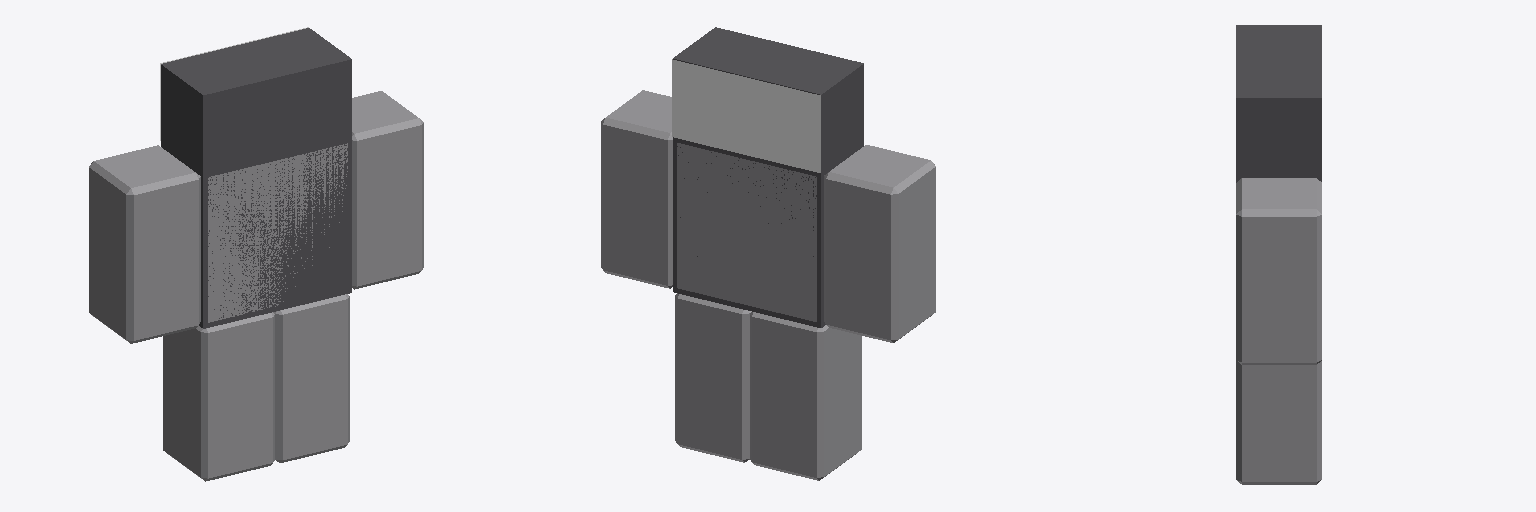
The picture shows the model from 3 angles: view 1: azimuth 30°, elevation 25°; view 2: azimuth 150°, elevation 25°; view 3: azimuth 270°, elevation 25°; orthographic projection.
Visible parts, largest first — view 1: Dummy1, Dummy4, Dummy6, Dummy3, Dummy8, Dummy5, Dummy7; view 2: Dummy7, Dummy4, Dummy6, Dummy3, Dummy2, Dummy5, Dummy1, Dummy8; view 3: Dummy3, Dummy1, Dummy5.
Part boxes in pixels (x1,y1,x2,y2): Dummy1: (161, 28, 351, 172); Dummy4: (89, 145, 200, 343); Dummy6: (163, 312, 274, 481); Dummy3: (352, 91, 423, 289); Dummy8: (161, 137, 351, 328); Dummy5: (273, 294, 349, 462); Dummy7: (208, 143, 347, 322); Dummy7: (677, 143, 816, 321); Dummy4: (824, 145, 935, 342); Dummy6: (750, 312, 861, 480); Dummy3: (601, 90, 672, 288); Dummy2: (672, 59, 820, 172); Dummy5: (675, 293, 751, 462); Dummy1: (673, 27, 863, 172); Dummy8: (673, 137, 863, 327); Dummy3: (1236, 178, 1321, 364); Dummy1: (1236, 25, 1321, 174); Dummy5: (1236, 360, 1321, 484).
Size of the model in its own units: 4 by 5 by 1.02.
Materials: 4 (1 with a texture image).